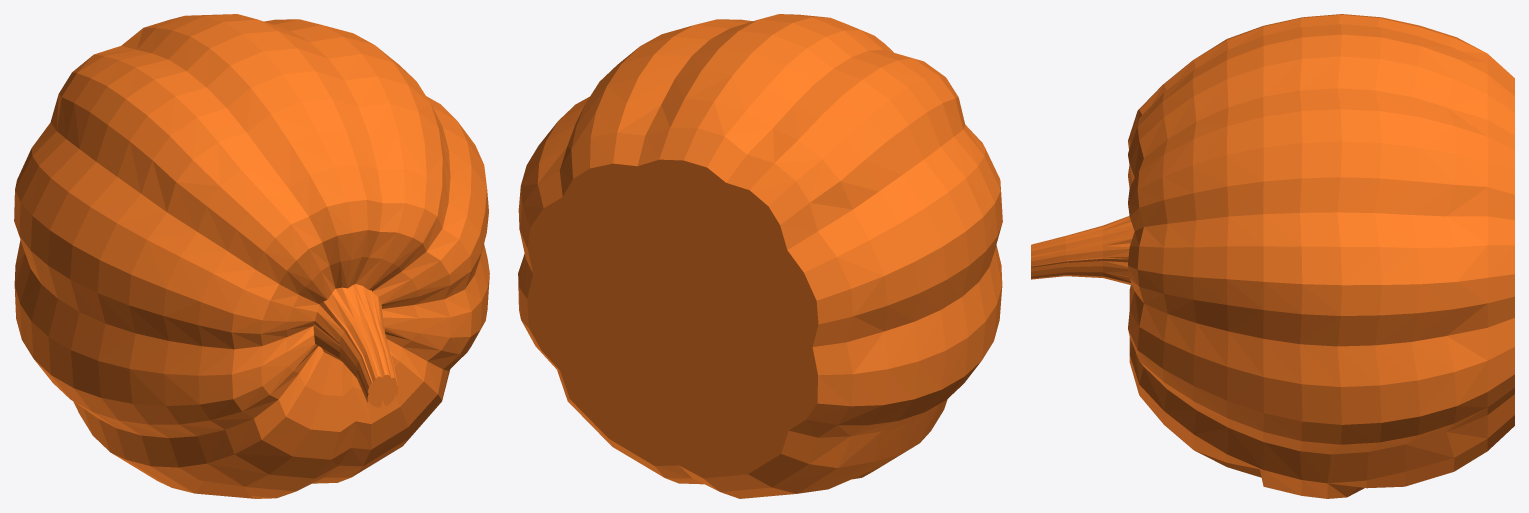
The model's file is jack.obj.
3 views of the same model, side by side, from view 1: azimuth 30°, elevation 25°; view 2: azimuth 150°, elevation 25°; view 3: azimuth 270°, elevation 25° (orthographic).
Parts seen in each view (by area): view 1: Object.1; view 2: Object.1; view 3: Object.1.
Part boxes in pixels (<box>): Object.1: <box>14,14,489,498</box>; Object.1: <box>518,14,1002,498</box>; Object.1: <box>1031,14,1514,498</box>.
Size of the model in its own units: 4.92 by 4.98 by 5.
